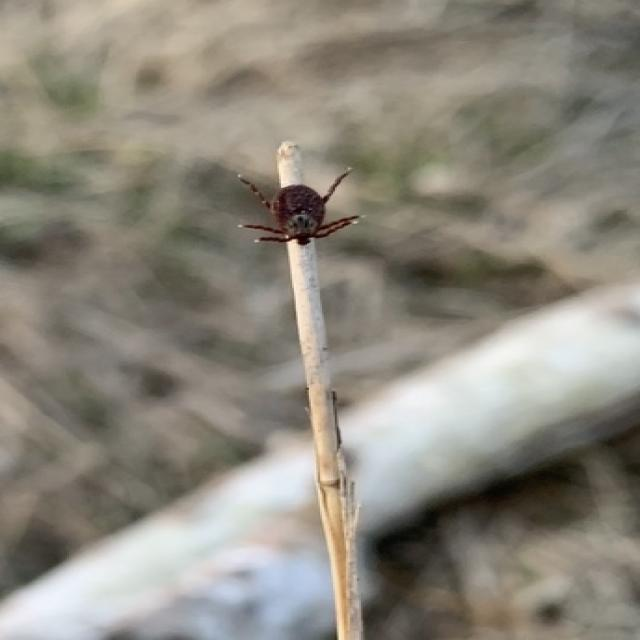Dermacentor Reticulatus-F: (238, 173, 361, 246)
